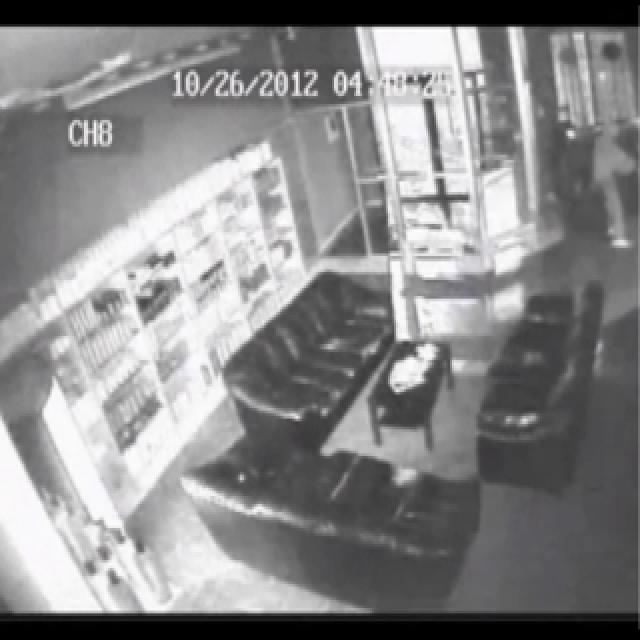arson: (90, 140, 626, 640)
